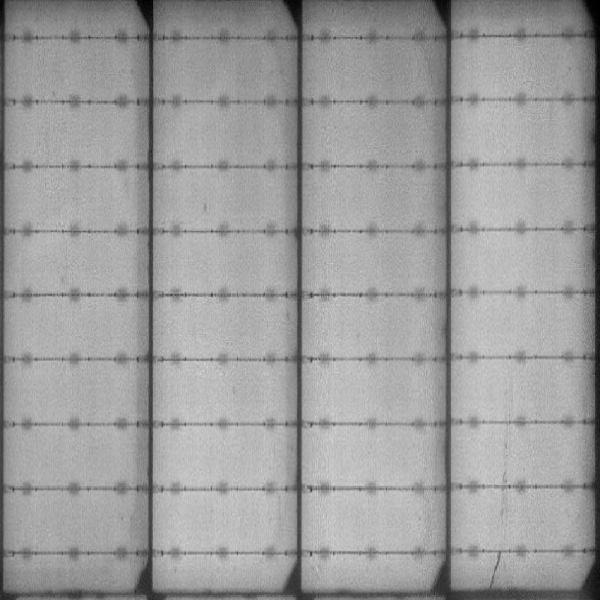scratch: (485, 555, 506, 592)
